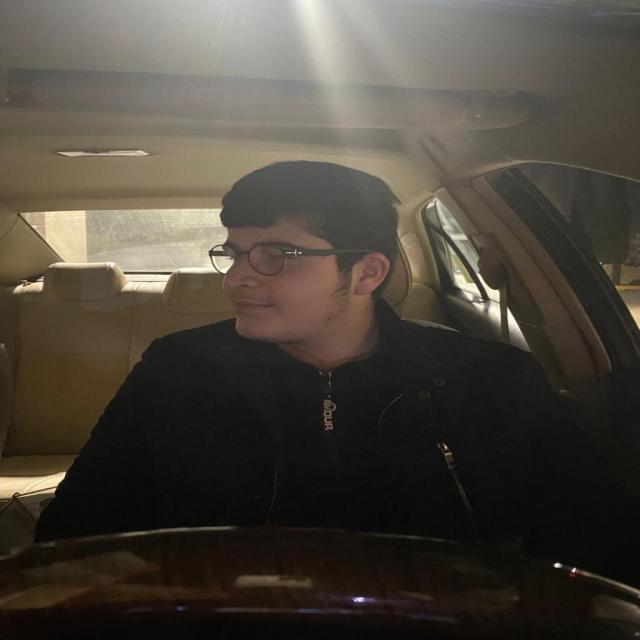person: (204, 150, 406, 347)
